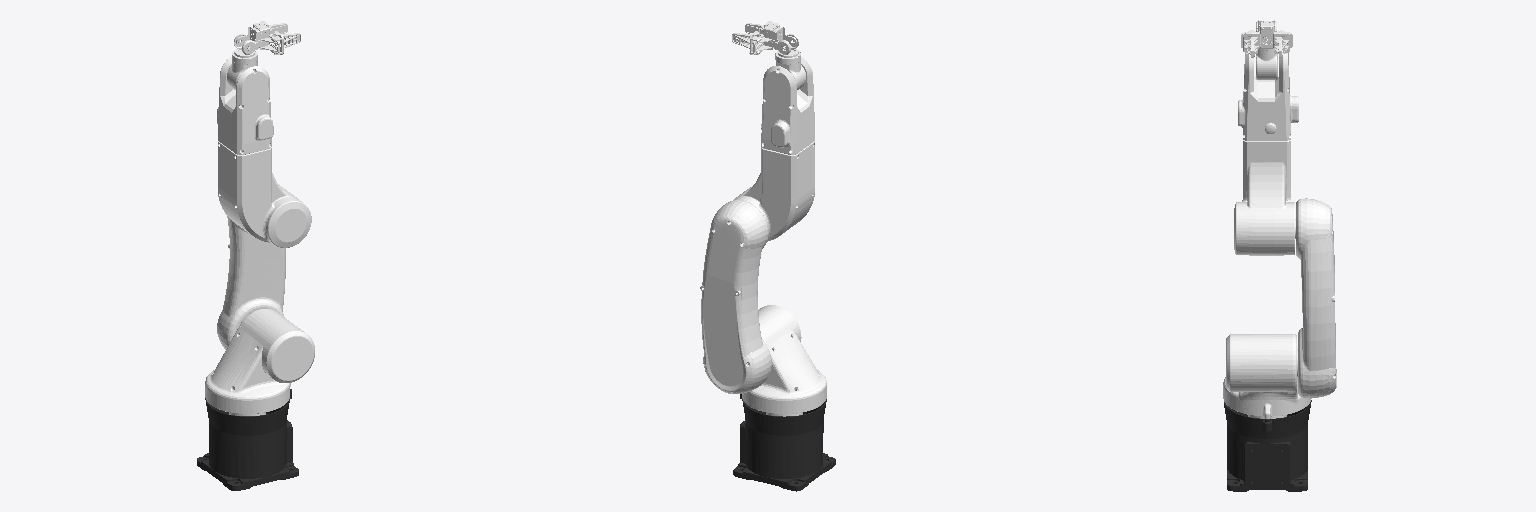
robot.urdf — manipulator:
<!-- -*- mode: xml -*- -->
<robot
  name="manipulator">
<link
    name="world">    
  </link>
  <joint
    name="world_joint"
    type="fixed">
    <parent
      link="world" />
    <child
      link="base_link" />
  </joint> 
  <link
    name="base_link">
    <inertial>
      <origin
        xyz="0.0029214 0 0.072181"
        rpy="0 0 0" />
      <mass
        value="2.6837" />
      <inertia
        ixx="0.019595"
        ixy="4.7367E-07"
        ixz="0.00017033"
        iyy="0.020211"
        iyz="4.0153E-07"
        izz="0.020491" />
    </inertial>
    <visual>
      <origin
        xyz="0 0 0"
        rpy="0 0 0" />
      <geometry>
        <mesh
          filename="package://kuka_bot/robots/meshes/base_link.STL" />
      </geometry>
      <material
        name="">
        <color
          rgba="0.25098 0.25098 0.25098 1" />
      </material>
    </visual>
    <collision>
      <origin
        xyz="0 0 0"
        rpy="0 0 0" />
      <geometry>
        <mesh
          filename="package://kuka_bot/robots/meshes/base_link.STL" />
      </geometry>
    </collision>
  </link>
  <link
    name="link_1">
    <inertial>
      <origin
        xyz="0.033215 -0.0082402 0.12846"
        rpy="0 0 0" />
      <mass
        value="5.7854" />
      <inertia
        ixx="0.034646"
        ixy="-0.0021358"
        ixz="0.0099875"
        iyy="0.040025"
        iyz="-0.0025528"
        izz="0.033066" />
    </inertial>
    <visual>
      <origin
        xyz="0 0 0"
        rpy="0 0 0" />
      <geometry>
        <mesh
          filename="package://kuka_bot/robots/meshes/link_1.STL" />
      </geometry>
      <material
        name="">
        <color
          rgba="1 1 1 1" />
      </material>
    </visual>
    <collision>
      <origin
        xyz="0 0 0"
        rpy="0 0 0" />
      <geometry>
        <mesh
          filename="package://kuka_bot/robots/meshes/link_1.STL" />
      </geometry>
    </collision>
  </link>
  <joint
    name="link_1_joint"
    type="continuous">
    <origin
      xyz="0 0 0.158"
      rpy="0 0 0" />
    <parent
      link="base_link" />
    <child
      link="link_1" />
    <axis
      xyz="0 0 1" />
    <limit
      effort="100000"
      velocity="1000000" />
  </joint>

  <link
    name="link_2">
    <inertial>
      <origin
        xyz="0.021249 0.0010698 0.16335"
        rpy="0 0 0" />
      <mass
        value="6.2559" />
      <inertia
        ixx="0.14122"
        ixy="0.00040068"
        ixz="0.0012456"
        iyy="0.14678"
        iyz="-0.00037208"
        izz="0.015241" />
    </inertial>
    <visual>
      <origin
        xyz="0 0 0"
        rpy="0 0 0" />
      <geometry>
        <mesh
          filename="package://kuka_bot/robots/meshes/link_2.STL" />
      </geometry>
      <material
        name="">
        <color
          rgba="1 1 1 1" />
      </material>
    </visual>
    <collision>
      <origin
        xyz="0 0 0"
        rpy="0 0 0" />
      <geometry>
        <mesh
          filename="package://kuka_bot/robots/meshes/link_2.STL" />
      </geometry>
    </collision>
  </link>

  <joint
    name="link_2_joint"
    type="revolute">
    <origin
      xyz="0.062468 0.11617 0.18"
      rpy="0 0 0" />
    <parent
      link="link_1" />
    <child
      link="link_2" />
    <axis
      xyz="0 1 0" />
    <limit
      lower="-2"
      upper="2"
      effort="100000"
      velocity="100000" />
  </joint>
  
  <link
name="link_3">

<inertial>
  <origin
    xyz="-0.062257 -0.0012327 0.14769"
    rpy="0 0 0" />
  <mass
    value="7.1667" />
  <inertia
    ixx="0.15543"
    ixy="-0.00081183"
    ixz="-0.028046"
    iyy="0.1635"
    iyz="0.001772"
    izz="0.027511" />
</inertial>
<visual>
  <origin
    xyz="0 0 0"
    rpy="0 0 0" />
  <geometry>
    <mesh
      filename="package://kuka_bot/robots/meshes/link_3.STL" />
  </geometry>
  <material
    name="">
    <color
      rgba="1 1 1 1" />
  </material>
</visual>
<collision>
  <origin
    xyz="0 0 0"
    rpy="0 0 0" />
  <geometry>
    <mesh
      filename="package://kuka_bot/robots/meshes/link_3.STL" />
  </geometry>
</collision>
</link>

<joint
name="link_3_joint"
type="revolute">
<origin
  xyz="0.017743 -0.118223  0.36769 "
  rpy="0 0 0" />
<parent
  link="link_2" />
<child
  link="link_3" />
<axis
  xyz="0 1 0" />
<limit
  lower="-2"
  upper="2"
  effort="100000"
  velocity="100000" />
</joint>

<!-- ///////////////////////// -->
<link
name="link_4">

<inertial>
  <mass
    value="7.1667" />
  <inertia
    ixx="0.15543"
    ixy="-0.00081183"
    ixz="-0.028046"
    iyy="0.1635"
    iyz="0.001772"
    izz="0.027511" />
</inertial>
<visual>
  <origin
    xyz="0 0 0"
    rpy="0 0 0" />
  <geometry>
    <mesh
      filename="package://kuka_bot/robots/meshes/link_4.stl" />
  </geometry>
  <material
    name="">
    <color
      rgba="1 1 1 1" />
  </material>
</visual>
<collision>
  <origin
    xyz="0 0 0"
    rpy="0 0 0" />
  <geometry>
    <mesh
      filename="package://kuka_bot/robots/meshes/link_4.stl" />
  </geometry>
</collision>
</link>

<joint
name="link_4_joint"
type="revolute">
<origin
  xyz="-0.09  0  0.5  "
  rpy="0 0 0" />
<parent
  link="link_3" />
<child
  link="link_4" />
<axis
  xyz="0 1 0" />
<limit
  lower="-2.70"
  upper="0.15"
  effort="100000"
  velocity="100000" />
</joint>

<!-- ///////////////////////// -->
<link
name="link_grip_l">

<inertial>
  <mass
    value="7.1667" />
  <inertia
    ixx="0.15543"
    ixy="-0.00081183"
    ixz="-0.028046"
    iyy="0.1635"
    iyz="0.001772"
    izz="0.027511" />
</inertial>
<visual>
  <origin
    xyz="0 0 0"
    rpy="0 0 0" />
  <geometry>
    <mesh
      filename="package://kuka_bot/robots/meshes/grip_l.stl" />
  </geometry>
  <material
    name="">
    <color
      rgba="1 1 1 1" />
  </material>
</visual>
<collision>
  <origin
    xyz="0 0 0"
    rpy="0 0 0" />
  <geometry>
    <mesh
      filename="package://kuka_bot/robots/meshes/grip_l.stl" />
  </geometry>
</collision>
</link>

<joint
name="link_grip_l_joint"
type="prismatic">
<origin
  xyz="0.08  0.03 0.0 "
  rpy="0 0 0" />
<parent
  link="link_4" />
<child
  link="link_grip_l" />
<axis
  xyz="0 1 0" />
  <limit velocity="4.8" effort="1" lower="-0.010" upper="0.019" />
</joint>
<!-- ///////////////////////// -->
<link
name="link_grip_r">

<inertial>
  <mass
    value="7.1667" />
  <inertia
    ixx="0.15543"
    ixy="-0.00081183"
    ixz="-0.028046"
    iyy="0.1635"
    iyz="0.001772"
    izz="0.027511" />
</inertial>
<visual>
  <origin
    xyz="0 0 0"
    rpy="0 0 0" />
  <geometry>
    <mesh
      filename="package://kuka_bot/robots/meshes/grip_r.stl" />
  </geometry>
  <material
    name="">
    <color
      rgba="1 1 1 1" />
  </material>
</visual>
<collision>
  <origin
    xyz="0 0 0"
    rpy="0 0 0" />
  <geometry>
    <mesh
      filename="package://kuka_bot/robots/meshes/grip_r.stl" />
  </geometry>
</collision>
</link>

<joint
name="link_grip_r_joint"
type="prismatic">
<origin
  xyz="0.08  -0.03 0.0 "
  rpy="0 0 0" />
<parent
  link="link_4" />
<child
  link="link_grip_r" />
<axis
  xyz="0 1 0" />
  <limit velocity="4.8" effort="1" lower="-0.010" upper="0.019" />
</joint>

<!-- ros_control plugin -->
  <gazebo> 
    <plugin name="gazebo_ros_control" filename="libgazebo_ros_control.so">
      <robotNamespace>/manipulator</robotNamespace> 
    </plugin> 
  </gazebo>

 <!-- Transmissions for ROS Control -->
  <transmission name="tran1">
    <type>transmission_interface/SimpleTransmission</type>
    <joint name="link_1_joint">
      <hardwareInterface>hardware_interface/PositionJointInterface</hardwareInterface>
    </joint>
    <actuator name="motor1">
      <hardwareInterface>hardware_interface/PositionJointInterface</hardwareInterface>
      <mechanicalReduction>1</mechanicalReduction>
    </actuator>
  </transmission>

  <transmission name="tran2">
    <type>transmission_interface/SimpleTransmission</type>
    <joint name="link_2_joint">
      <hardwareInterface>hardware_interface/PositionJointInterface</hardwareInterface>
    </joint>
    <actuator name="motor2">
      <hardwareInterface>hardware_interface/PositionJointInterface</hardwareInterface>
      <mechanicalReduction>1</mechanicalReduction>
    </actuator>
  </transmission>

  <transmission name="tran3">
    <type>transmission_interface/SimpleTransmission</type>
    <joint name="link_3_joint">
      <hardwareInterface>hardware_interface/PositionJointInterface</hardwareInterface>
    </joint>
    <actuator name="motor3">
      <hardwareInterface>hardware_interface/PositionJointInterface</hardwareInterface>
      <mechanicalReduction>1</mechanicalReduction>
    </actuator>
  </transmission>

  <transmission name="tran4">
    <type>transmission_interface/SimpleTransmission</type>
    <joint name="link_4_joint">
      <hardwareInterface>hardware_interface/PositionJointInterface</hardwareInterface>
    </joint>
    <actuator name="motor4">
      <hardwareInterface>hardware_interface/PositionJointInterface</hardwareInterface>
      <mechanicalReduction>1</mechanicalReduction>
    </actuator>
  </transmission>

  <transmission name="tran5">
    <type>transmission_interface/SimpleTransmission</type>
    <joint name="link_grip_r_joint">
      <hardwareInterface>hardware_interface/PositionJointInterface</hardwareInterface>
    </joint>
    <actuator name="motor5">
      <hardwareInterface>hardware_interface/PositionJointInterface</hardwareInterface>
      <mechanicalReduction>1</mechanicalReduction>
    </actuator>
  </transmission>

  <transmission name="tran6">
    <type>transmission_interface/SimpleTransmission</type>
    <joint name="link_grip_l_joint">
      <hardwareInterface>hardware_interface/PositionJointInterface</hardwareInterface>
    </joint>
    <actuator name="motor6">
      <hardwareInterface>hardware_interface/PositionJointInterface</hardwareInterface>
      <mechanicalReduction>1</mechanicalReduction>
    </actuator>
  </transmission>

<gazebo reference="link_1">
    <mu1>1</mu1>
    <mu2>1</mu2>
    <selfCollide>true</selfCollide>
   <material>Gazebo/Grey</material>
</gazebo>

<gazebo reference="link_2">
    <mu1>1</mu1>
    <mu2>1</mu2>
    <selfCollide>true</selfCollide>
   <material>Gazebo/Grey</material>
</gazebo>

<gazebo reference="link_3">
    <mu1>1</mu1>
    <mu2>1</mu2>
    <selfCollide>true</selfCollide>
   <material>Gazebo/Grey</material>
</gazebo>

<gazebo reference="link_4">
  <mu1>1</mu1>
  <mu2>1</mu2>
  <selfCollide>true</selfCollide>
 <material>Gazebo/Black</material>
</gazebo>

<gazebo reference="link_grip_l_joint">
  <mu1>1</mu1>
  <mu2>1</mu2>
  <selfCollide>true</selfCollide>
 <material>Gazebo/Orange</material>
</gazebo>

<gazebo reference="link_grip_r_joint">
  <mu1>1</mu1>
  <mu2>1</mu2>
  <selfCollide>true</selfCollide>
 <material>Gazebo/Orange</material>
</gazebo>



</robot>

--- What the picture shows (computed from the rendered views, not written in the file) ---
The picture shows the robot from 3 angles, left to right: view 1: azimuth 30°, elevation 25°; view 2: azimuth 150°, elevation 25°; view 3: azimuth 270°, elevation 25°; orthographic projection.
Model manipulator with 8 links and 7 joints (3 revolute, 1 continuous, 2 prismatic, 1 fixed), rooted at world, posed every joint at zero.
Visible links, largest first — view 1: link_3, link_1, base_link, link_2, link_4; view 2: link_2, link_3, base_link, link_1, link_4; view 3: link_3, link_2, base_link, link_1, link_4.
Link boxes in pixels (x1,y1,x2,y2): link_3: [217, 48, 311, 247]; link_1: [205, 309, 314, 415]; base_link: [197, 389, 298, 490]; link_2: [217, 216, 285, 349]; link_4: [234, 24, 279, 54]; link_2: [700, 200, 771, 393]; link_3: [733, 48, 814, 241]; base_link: [733, 394, 835, 491]; link_1: [742, 305, 826, 416]; link_4: [753, 24, 798, 54]; link_3: [1234, 48, 1298, 255]; link_2: [1295, 198, 1336, 397]; base_link: [1224, 400, 1311, 491]; link_1: [1223, 334, 1311, 418]; link_4: [1241, 20, 1292, 48].
Size in the robot's own frame: 0.2802 by 0.2794 by 1.25 metres.
7 mesh visuals loaded from 7 distinct referenced files (7 binary STL).